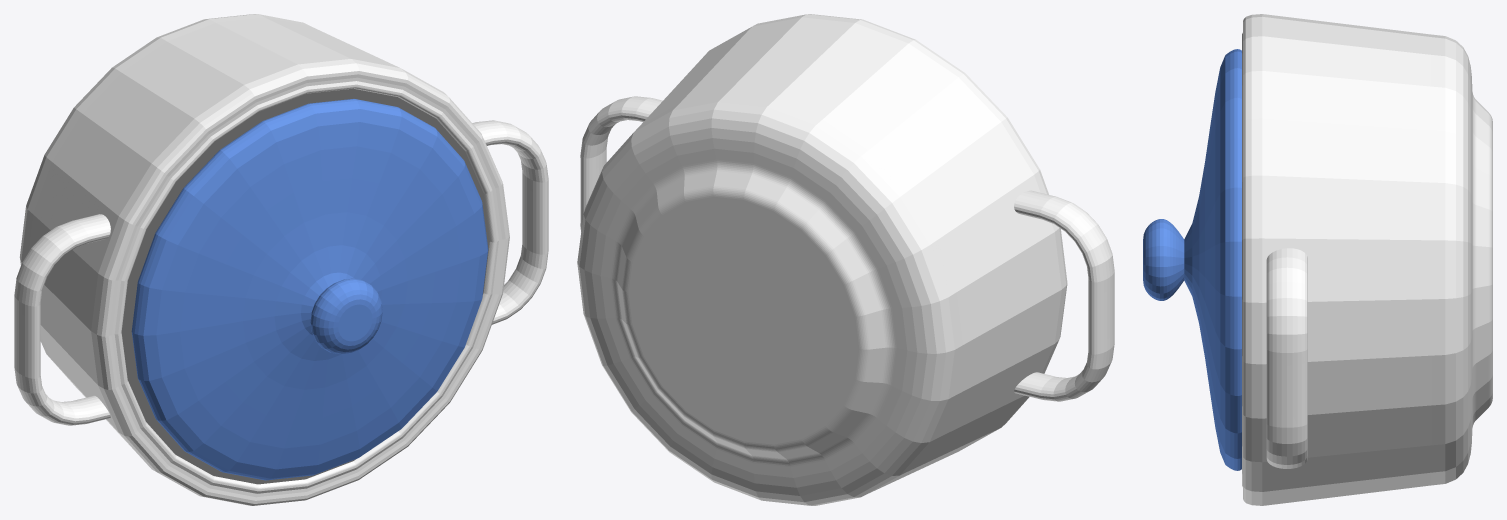
3 renders of one model, left to right at view 1: azimuth 30°, elevation 25°; view 2: azimuth 150°, elevation 25°; view 3: azimuth 270°, elevation 25°, orthographic. The views are drawn at different scales.
Visible parts, largest first — view 1: cooking pot; view 2: cooking pot; view 3: cooking pot.
Part boxes in pixels (x1=…): cooking pot: x1=14, y1=14, x2=548, y2=505; cooking pot: x1=577, y1=14, x2=1114, y2=505; cooking pot: x1=1143, y1=14, x2=1492, y2=505.
Size of the model in its own units: 1 by 0.7868 by 0.5573.
